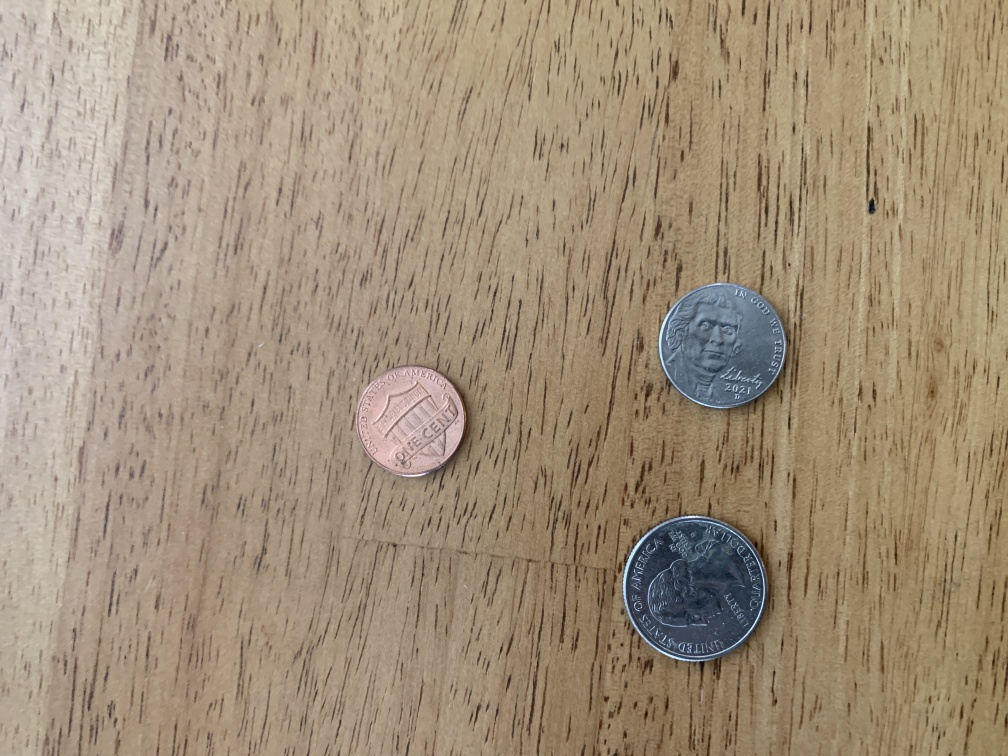nickel: (653, 281, 790, 416)
penny: (350, 361, 471, 481)
quarter: (618, 511, 776, 671)
